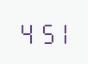five: (36, 20, 52, 44)
four: (18, 20, 34, 44)
one: (53, 20, 69, 44)
